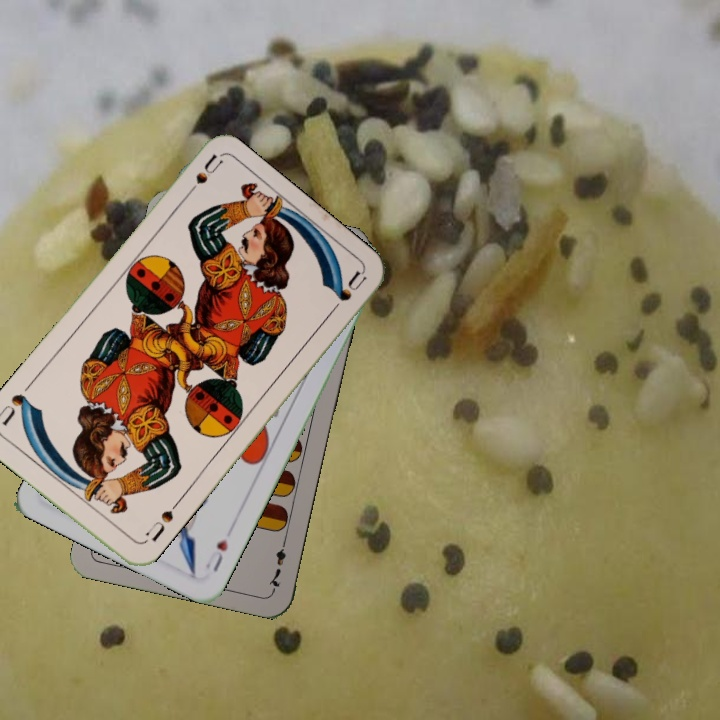E7: (264, 534, 290, 593)
HU: (201, 535, 231, 575)
SU: (179, 151, 225, 204), (141, 497, 182, 544)
